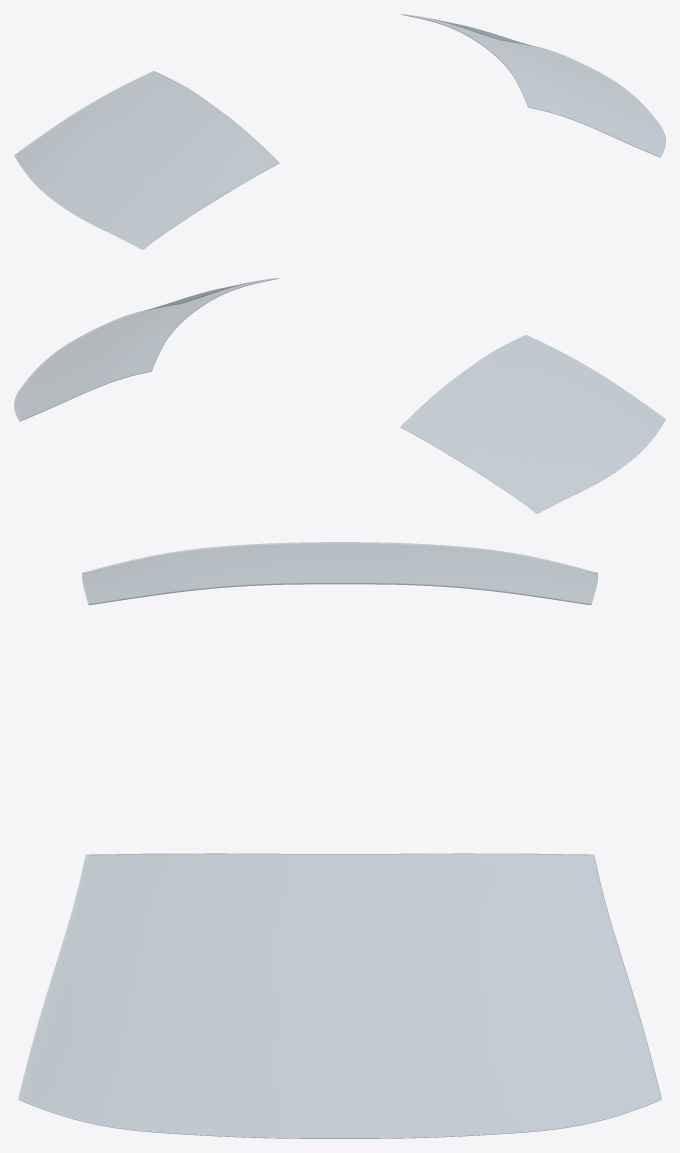
3 renders of one model, top to bottom at view 1: azimuth 30°, elevation 25°; view 2: azimuth 150°, elevation 25°; view 3: azimuth 270°, elevation 25°, orthographic. The views are drawn at different scales.
Parts seen in each view (by area): view 1: SM_DodgeCharger_Glass_Ext2; view 2: SM_DodgeCharger_Glass_Ext2; view 3: SM_DodgeCharger_Glass_Ext2.
Boxes of the visible parts, <box> form: SM_DodgeCharger_Glass_Ext2: <box>14,14,665,249</box>; SM_DodgeCharger_Glass_Ext2: <box>14,278,665,513</box>; SM_DodgeCharger_Glass_Ext2: <box>18,542,661,1138</box>.
Size of the model in its own units: 3.03 by 0.4154 by 1.49.
